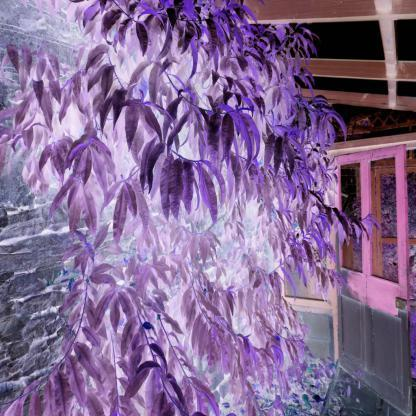Peach leaf: (110, 180, 130, 247), (64, 354, 86, 405), (73, 340, 101, 379), (91, 292, 117, 331), (124, 366, 152, 399), (168, 152, 181, 223), (220, 110, 236, 167), (119, 314, 138, 362), (12, 89, 34, 130), (80, 186, 96, 240), (124, 102, 140, 152), (100, 61, 114, 100), (79, 146, 92, 187), (197, 320, 209, 362)
